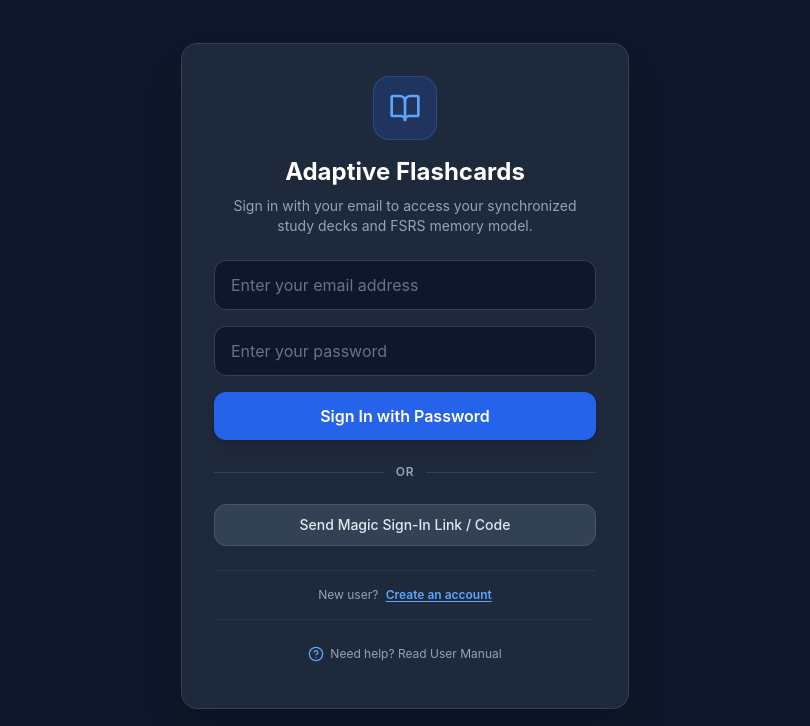
Test: App Shell (ARC-001..ARC-010, AUT-002, ARC-006) › AUT-001, DEL-002: Opens and navigates user manual from unauthenticated sign-in screen
The image size is (810, 726).
Click the button with aria-label "open user manual" at (405, 654), box [296,632,514,676]
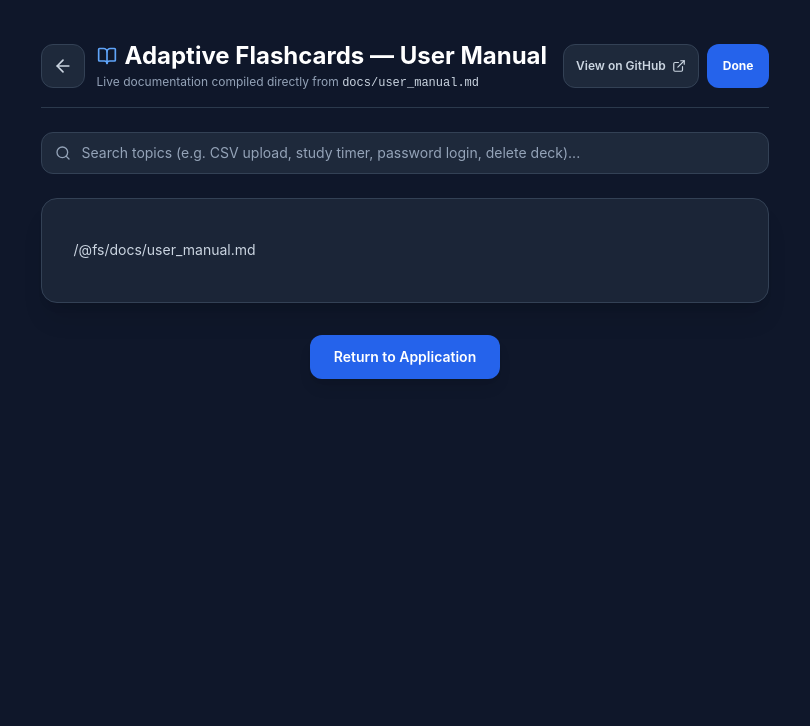
Check: the element "User Manual" is shown, box [17,16,794,403]
Check: the heading "Adaptive Flashcards — User Manual" is shown, box [125,40,547,72]
Note: Navigate back to sign in
Click the button named "back to application" at (63, 66), box [41,44,85,88]
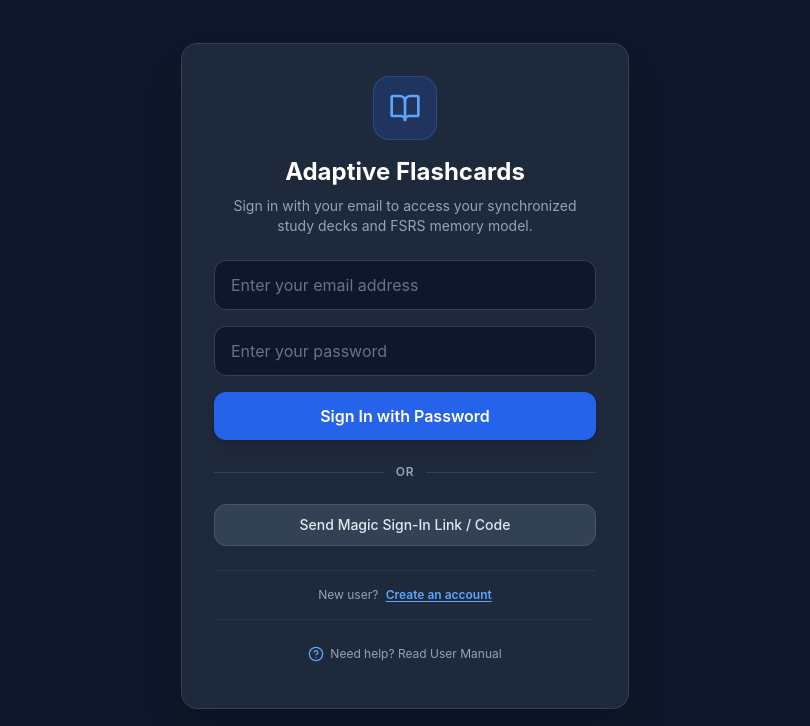
Check: the heading "Adaptive Flashcards" is shown, box [285,157,525,186]
Check: the field with placeholder "Enter your email address" is shown, box [214,260,596,310]
